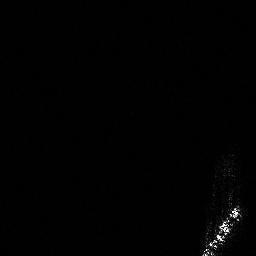ship: (199, 203, 250, 255)
